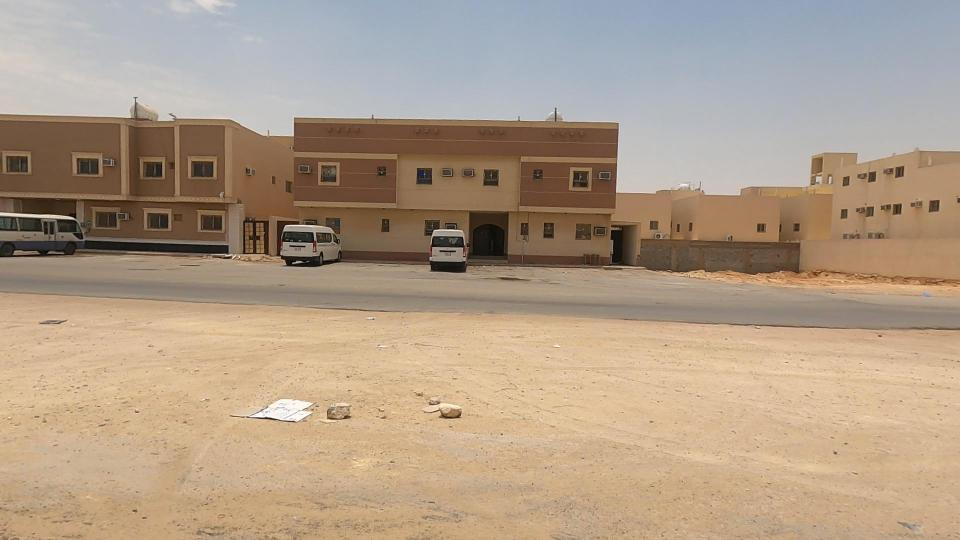GARBAGE: (174, 355, 370, 460), (2, 285, 113, 363)
